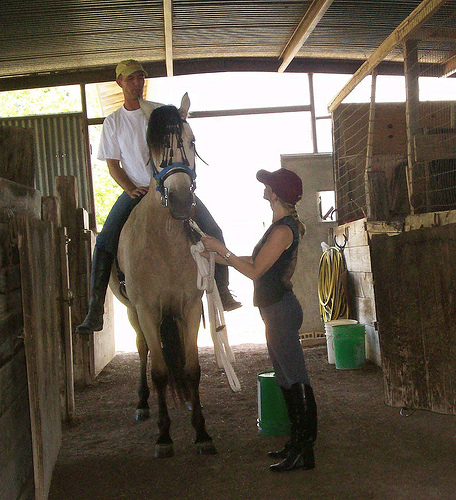without_mask: (260, 174, 301, 215), (116, 68, 147, 102)
